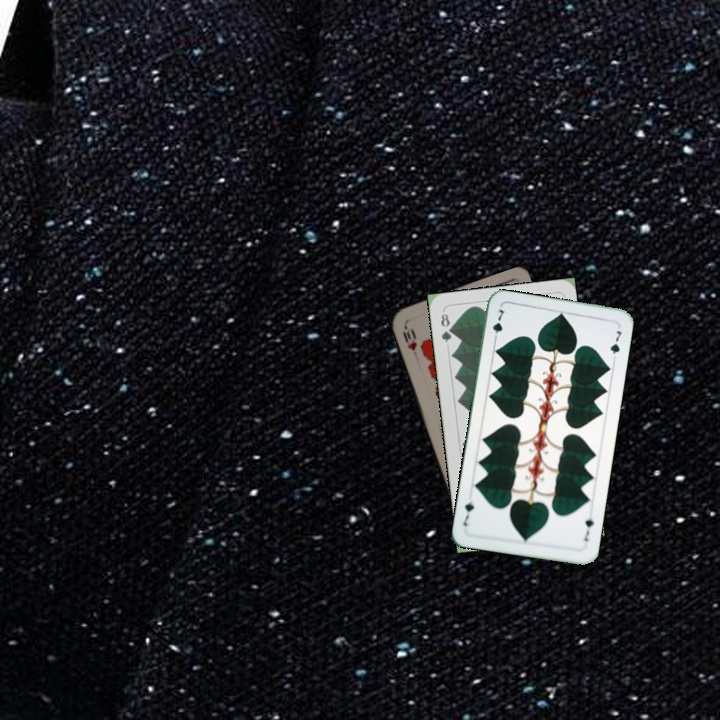G7: (488, 305, 507, 345), (580, 514, 596, 544)
G8: (437, 307, 455, 345)
H10: (398, 321, 419, 353)
